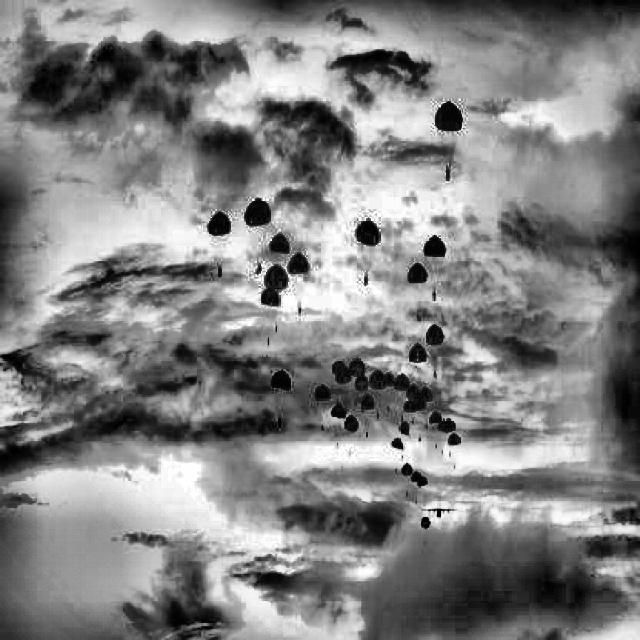C130: (419, 496, 458, 518)
